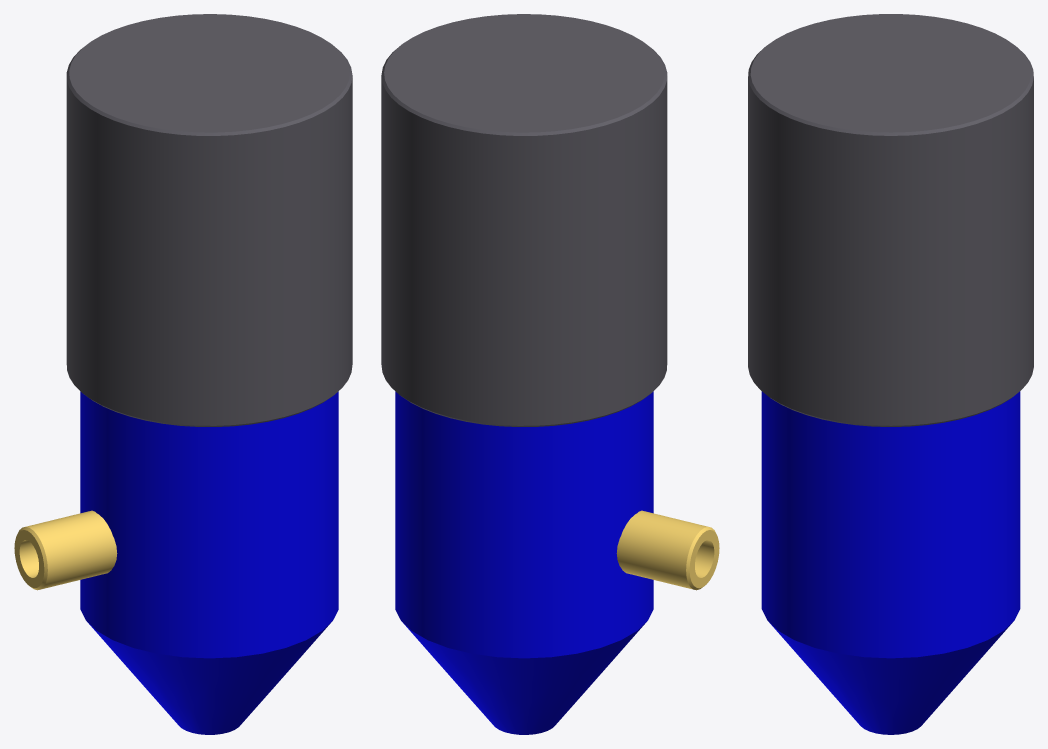
File: head.glb
3 renders of one model, left to right at view 1: azimuth 30°, elevation 25°; view 2: azimuth 150°, elevation 25°; view 3: azimuth 270°, elevation 25°, orthographic.
Visible parts, largest first — view 1: Lower body, Upper body, Air connector; view 2: Lower body, Upper body, Air connector; view 3: Lower body, Upper body.
Boxes of the visible parts, bbox=[...] form: Lower body: bbox=[66, 14, 352, 426]; Upper body: bbox=[80, 391, 338, 734]; Air connector: bbox=[14, 510, 117, 590]; Lower body: bbox=[381, 14, 667, 426]; Upper body: bbox=[395, 391, 653, 734]; Air connector: bbox=[616, 510, 719, 590]; Lower body: bbox=[748, 14, 1033, 426]; Upper body: bbox=[761, 391, 1020, 734].
Size of the model in its own units: 0.027 by 0.055 by 0.022.
